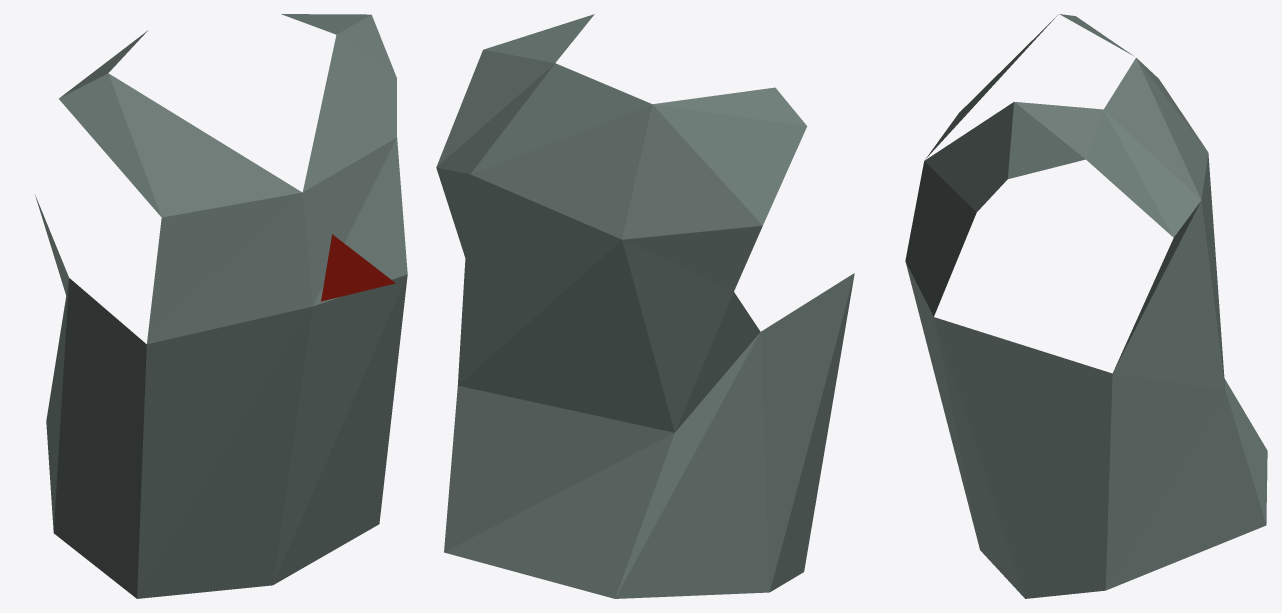
3 renders of one model, left to right at view 1: azimuth 30°, elevation 25°; view 2: azimuth 150°, elevation 25°; view 3: azimuth 270°, elevation 25°, orthographic. The views are drawn at different scales.
Bounding box in the file's own units: 0.4875 × 0.7569 × 0.5427.
2 materials, 2 textured.
